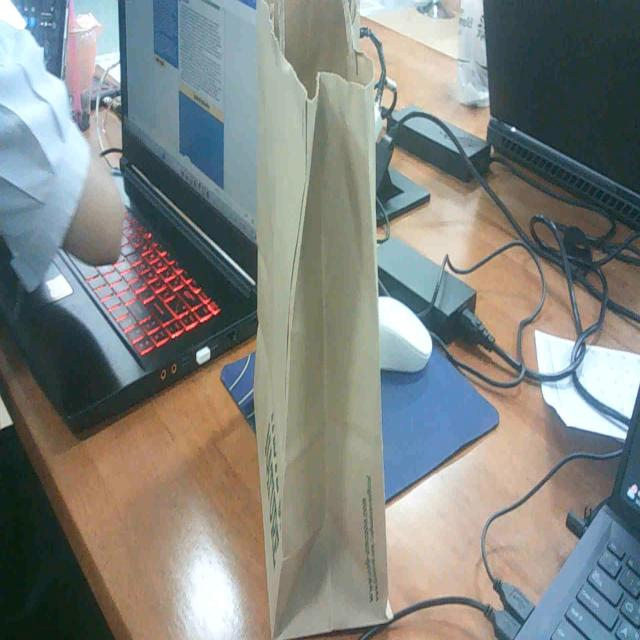bag: (254, 0, 400, 640)
